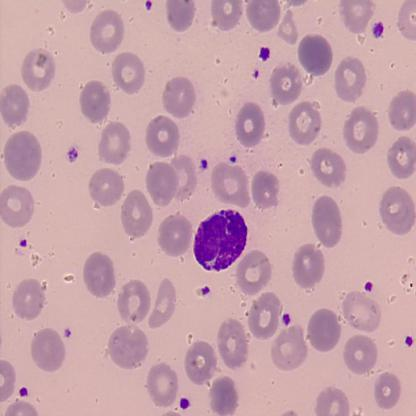Basophil: (191, 206, 249, 273)
